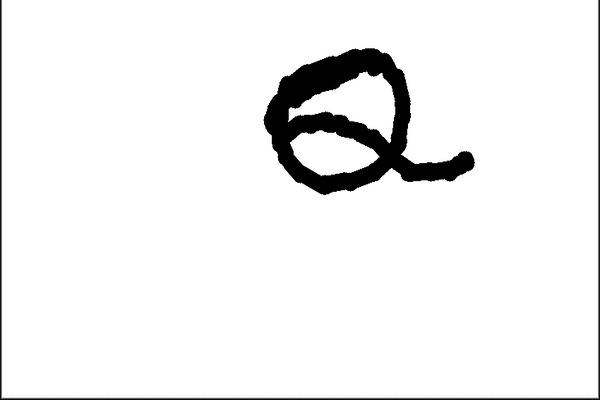Q: (256, 37, 472, 197)
